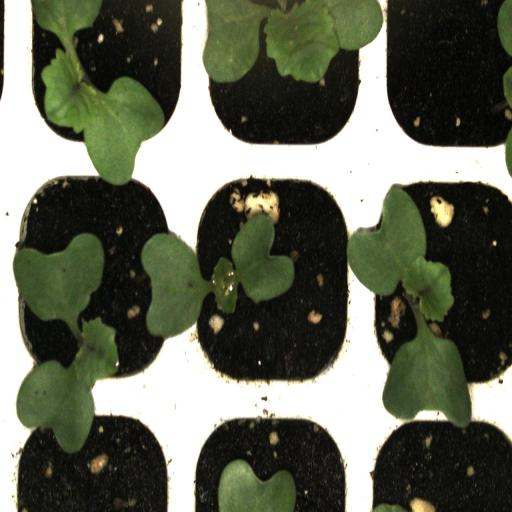seedling: (178, 164, 364, 397), (2, 160, 182, 392), (365, 163, 512, 395), (192, 0, 366, 161), (17, 4, 193, 161)
